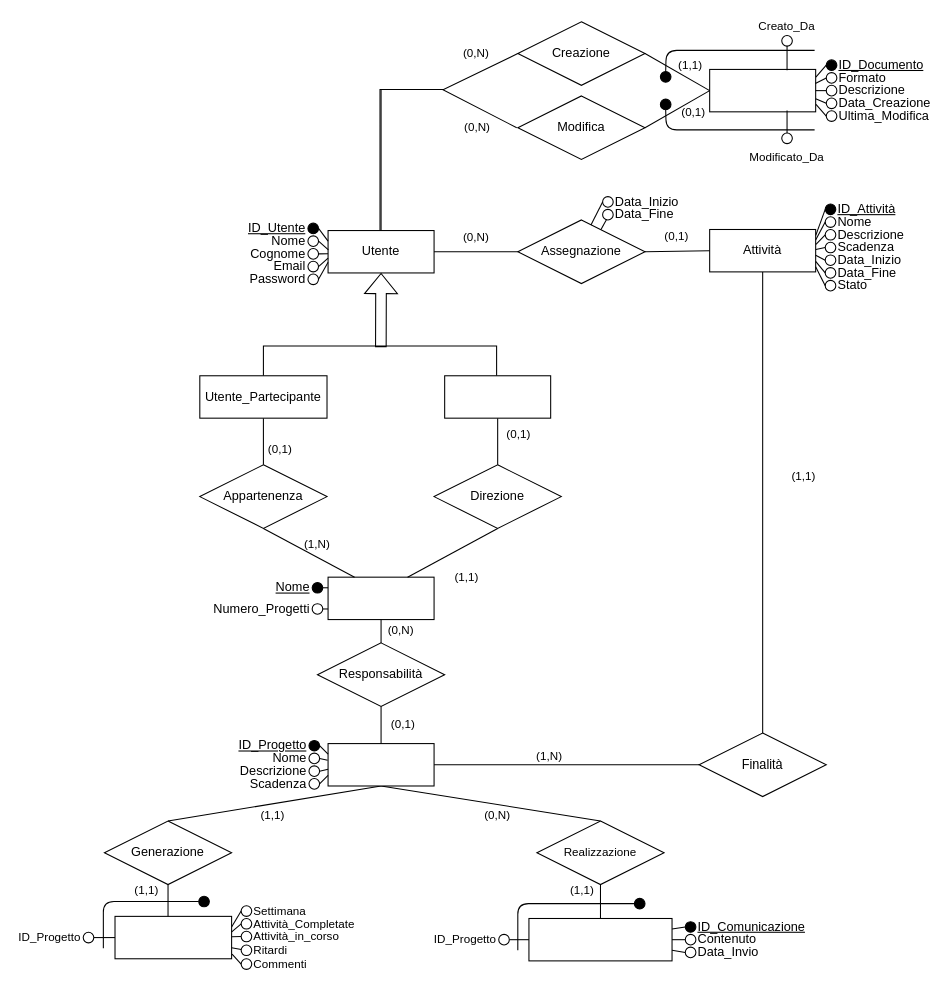
Image size: 949x989. Some labels were removed from this diagram. Here are the shapes that lost their labels. From the top down, the centre of each, then its label:
point 762,90: Documento
point 497,396: Capo_Team
point 380,598: Team
point 380,764: Progetto
point 173,937: Report_Di_Progresso
point 600,939: Comunicazione_Progetto
